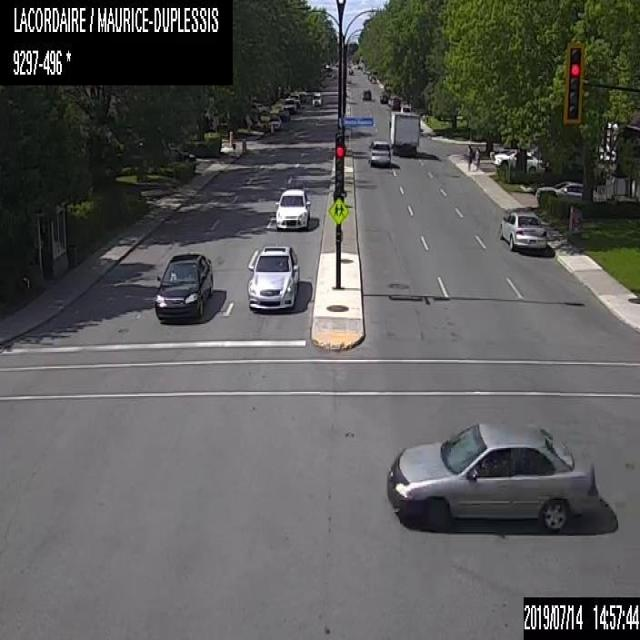construction: (228, 129, 233, 146), (240, 137, 245, 151)
pedestrian: (466, 143, 473, 171), (474, 144, 480, 172)
vehicle: (384, 421, 599, 532), (154, 251, 210, 320), (245, 241, 300, 307), (498, 209, 547, 252), (535, 180, 601, 208), (274, 184, 312, 229), (388, 108, 420, 157), (493, 148, 544, 171), (163, 148, 196, 170), (367, 139, 390, 165), (266, 114, 281, 129), (283, 97, 296, 113), (252, 101, 268, 113), (310, 90, 321, 106), (388, 94, 400, 108), (361, 88, 373, 101), (276, 108, 289, 120), (289, 91, 299, 105), (378, 91, 388, 104), (400, 103, 410, 112), (298, 90, 304, 102), (370, 73, 376, 83), (348, 68, 353, 74)
